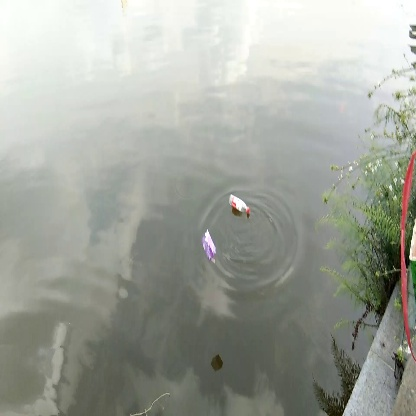bottle: (227, 193, 252, 219)
milk-box: (199, 228, 221, 261)
